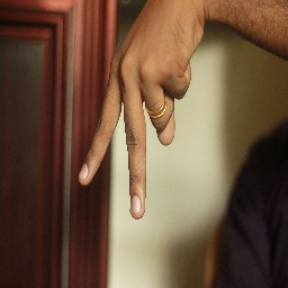Y: (77, 40, 193, 219)
